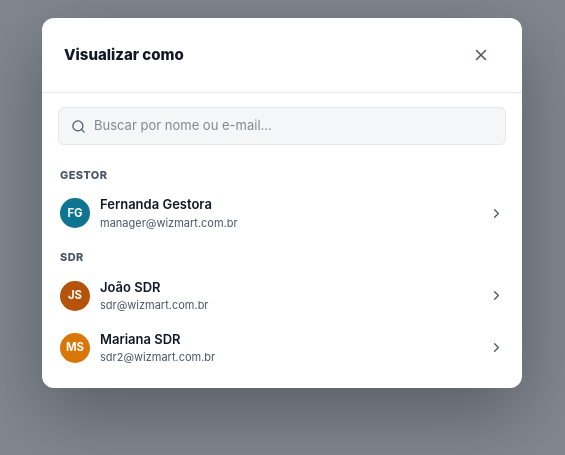
it: ViewAsModal — busca › filtra por nome ignorando acento e caixa
Type "JOAO" into the field named "Buscar usuário" at (294, 126), box [94,116,493,136]
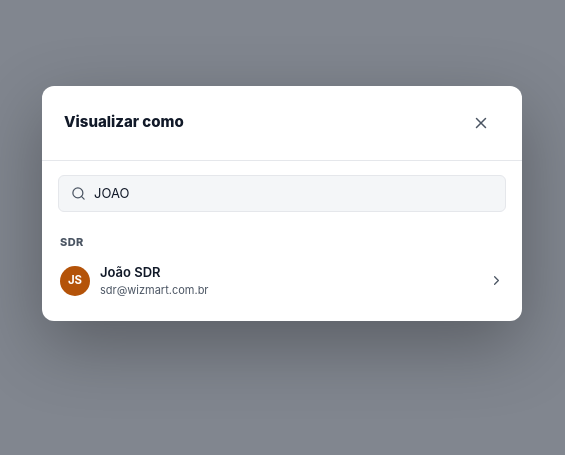
Expected: the text "João SDR" is shown, [100,264,161,280]
Result: the button "Mariana SDR" is gone
